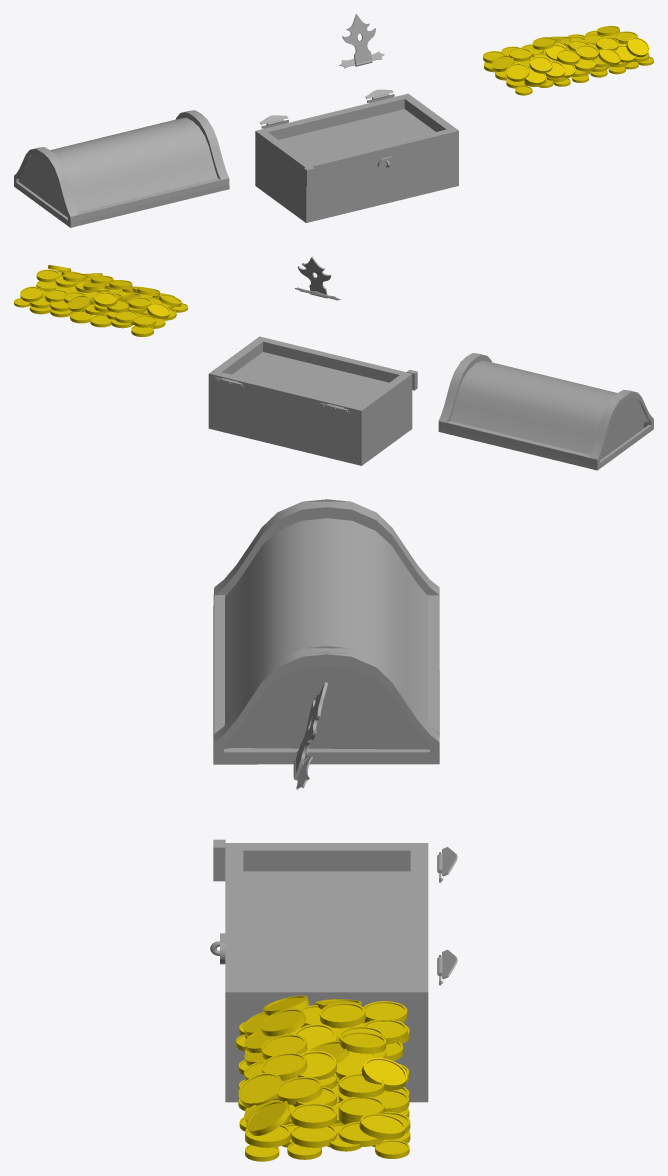
Rendered from chest.fbx.
3 renders of one model, top to bottom at view 1: azimuth 30°, elevation 25°; view 2: azimuth 150°, elevation 25°; view 3: azimuth 270°, elevation 25°, orthographic. The views are drawn at different scales.
Parts seen in each view (by area): view 1: pCube1, pCylinder4, group35_pasted__group34_pasted__pasted__group33_pasted__past, pCube2, group15_pasted__group_pasted__pasted__pSphere2; view 2: pCube1, pCylinder4, group35_pasted__group34_pasted__pasted__group33_pasted__past, pCube2, group15_pasted__group_pasted__pasted__pSphere2; view 3: pCylinder4, pCube1, group35_pasted__group34_pasted__pasted__group33_pasted__past, group15_pasted__group_pasted__pasted__pSphere2.
Part boxes in pixels (bbox=[...]): pCube1: bbox=[255, 93, 458, 222]; pCylinder4: bbox=[14, 110, 229, 227]; group35_pasted__group34_pasted__pasted__group33_pasted__past: bbox=[483, 26, 653, 95]; pCube2: bbox=[342, 14, 375, 63]; group15_pasted__group_pasted__pasted__pSphere2: bbox=[260, 89, 394, 128]; pCube1: bbox=[208, 336, 412, 465]; pCylinder4: bbox=[438, 353, 653, 470]; group35_pasted__group34_pasted__pasted__group33_pasted__past: bbox=[14, 265, 187, 336]; pCube2: bbox=[297, 256, 331, 294]; group15_pasted__group_pasted__pasted__pSphere2: bbox=[215, 377, 349, 413]; pCylinder4: bbox=[213, 499, 439, 764]; pCube1: bbox=[225, 843, 428, 1102]; group35_pasted__group34_pasted__pasted__group33_pasted__past: bbox=[236, 995, 410, 1161]; group15_pasted__group_pasted__pasted__pSphere2: bbox=[437, 847, 457, 985].
Size of the model in its own units: 36.93 by 10.23 by 6.67.
